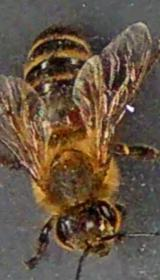varroa_mite: (56, 103, 86, 130)
